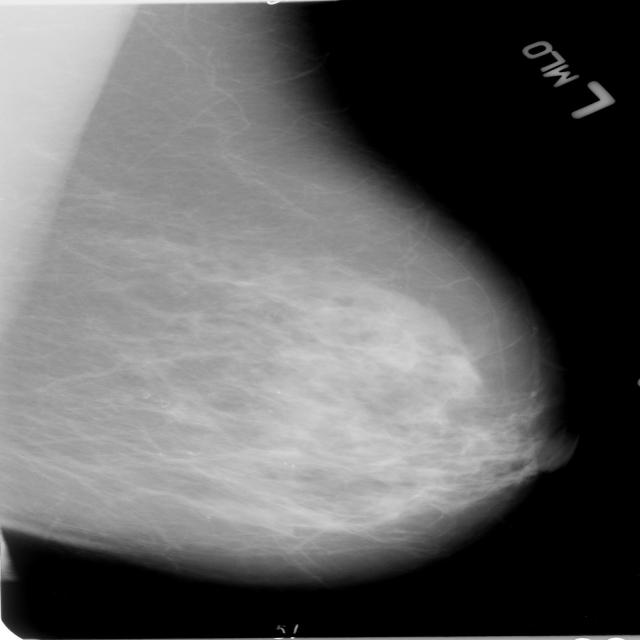normal: (0, 2, 576, 595)
